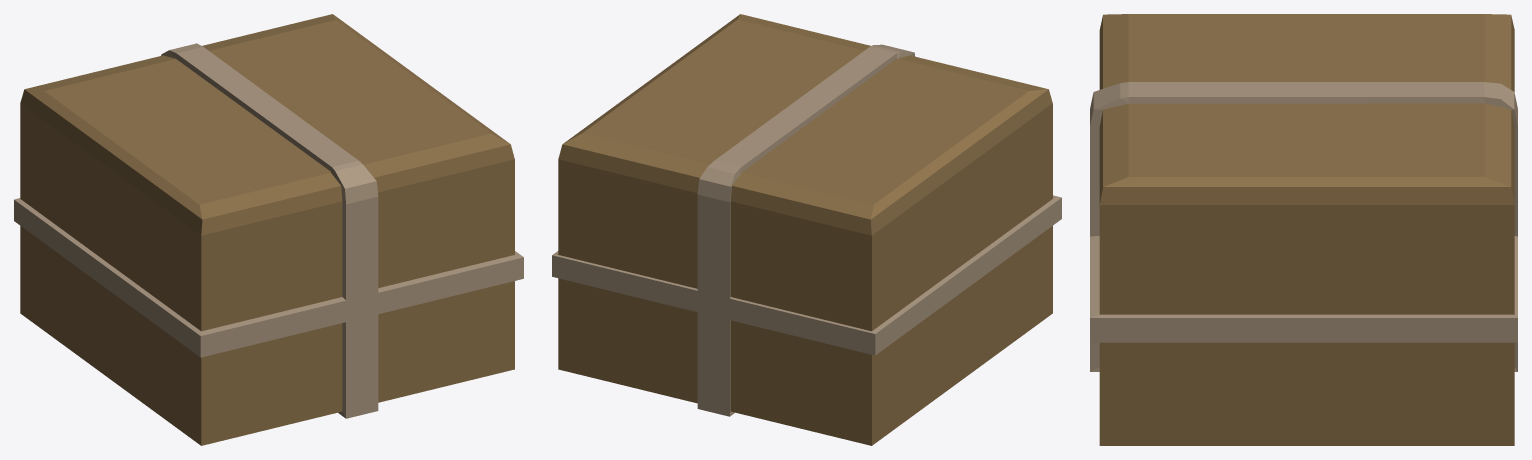
File: carton 4.fbx
3 views of the same model, side by side, from view 1: azimuth 30°, elevation 25°; view 2: azimuth 150°, elevation 25°; view 3: azimuth 270°, elevation 25° (orthographic). The views are drawn at different scales.
Visible parts, largest first — view 1: pCube11; view 2: pCube11; view 3: pCube11.
Boxes of the visible parts, bbox=[...] form: pCube11: bbox=[14, 14, 523, 445]; pCube11: bbox=[552, 14, 1061, 445]; pCube11: bbox=[1090, 14, 1517, 445].
Bounding box in the file's own units: 1.82 × 1.28 × 1.82.
